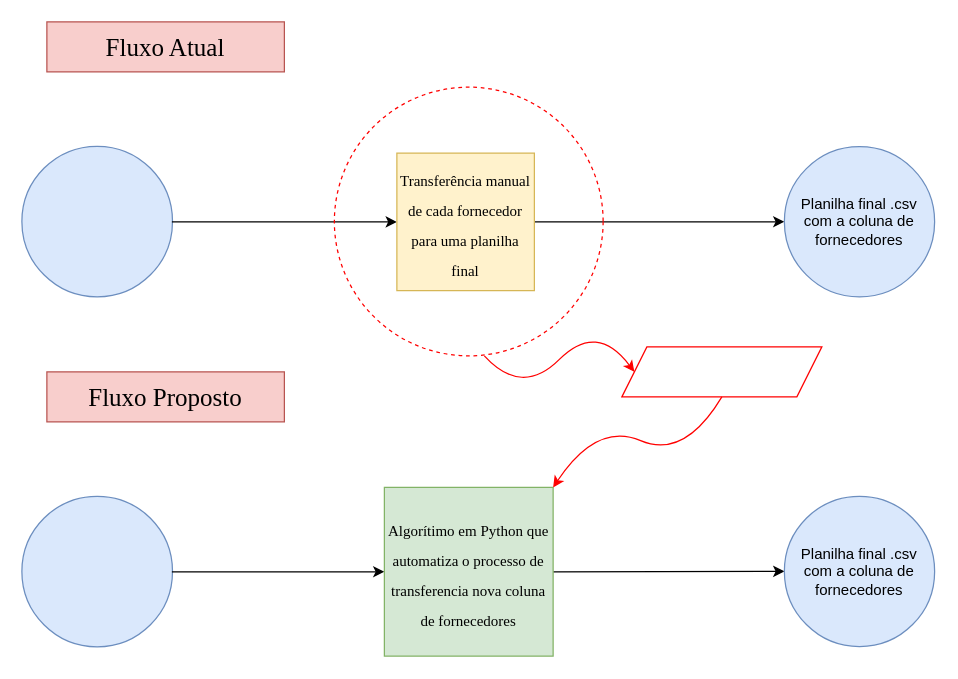
Image size: 958x679. Some labels were removed from this diagram. The shapes that lost their labels are listed below. From the top down, each one's centre as x and y in pixels, then its label:
At [96,221]: "Recebimento das planilhas . csv de cada fornecedor".
At [721,371]: "Entrada da automação".
At [96,571]: "Recebimento das planilhas .csv de cada fornecedor".
